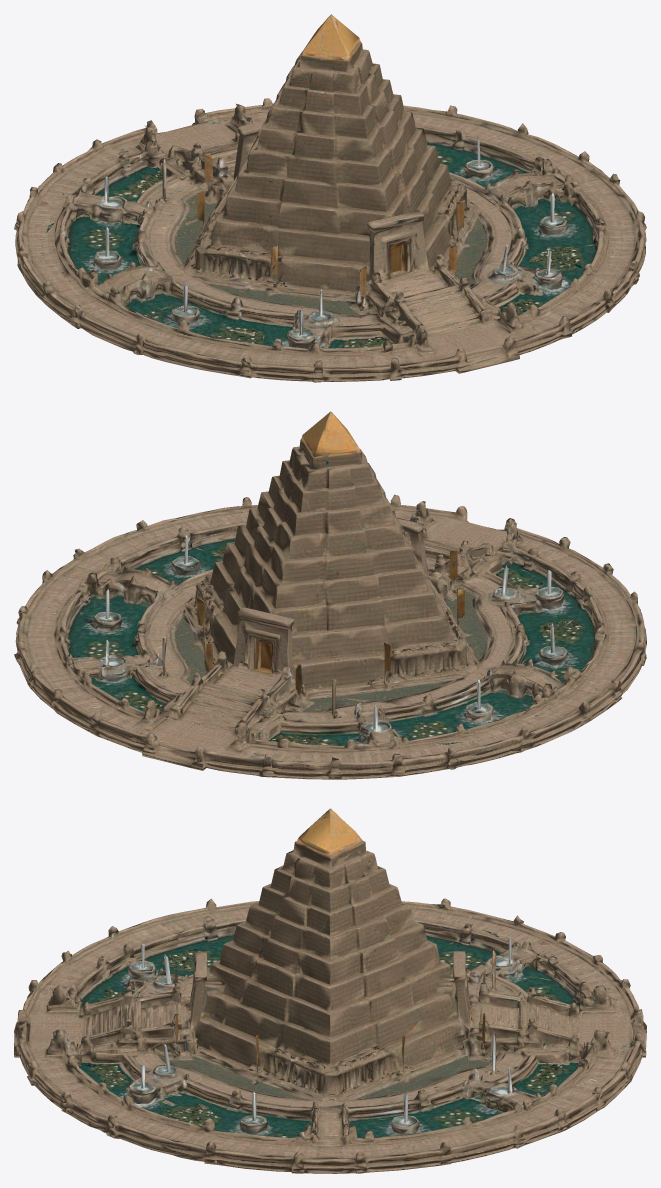
Rendered from pyramid_large.glb.
3 renders of one model, top to bottom at view 1: azimuth 30°, elevation 25°; view 2: azimuth 150°, elevation 25°; view 3: azimuth 270°, elevation 25°, orthographic.
Bounding box in the file's own units: 1.89 × 0.779 × 1.9.
1 material, 1 textured.
